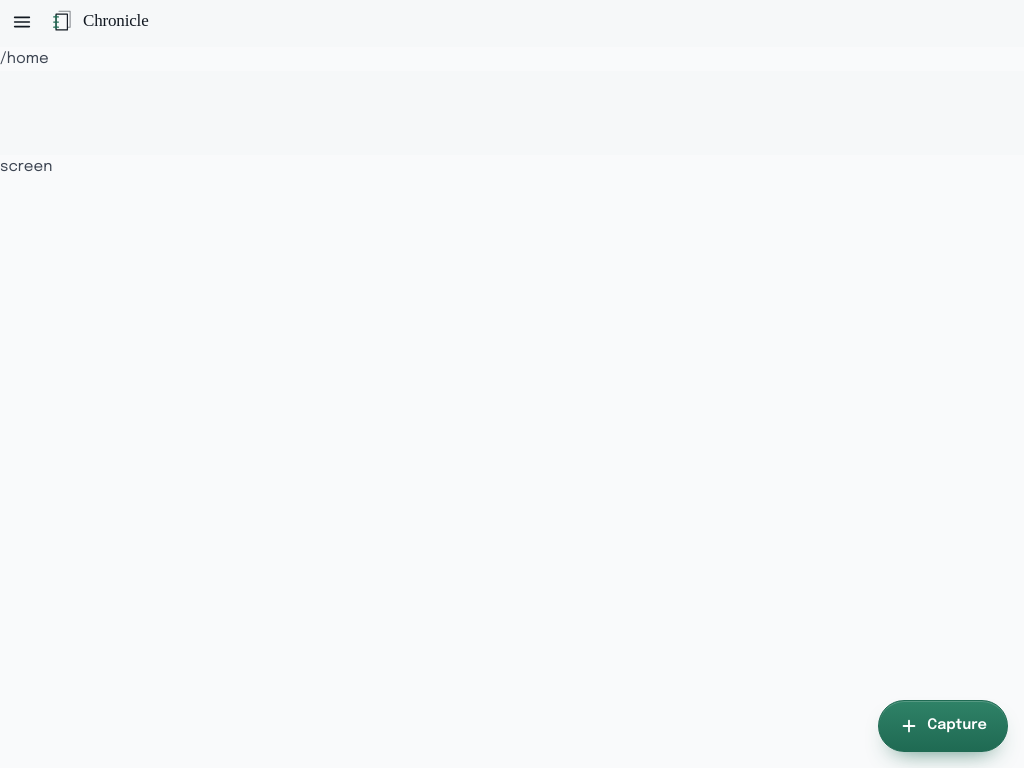
mobile drawer › navigates to Chronicle and closes afterwards
What coordinates should you click on to do the following:
click the button with test id "nav-menu-button"
I would click on:
 (22, 22)
Its box is [0,0,44,44].
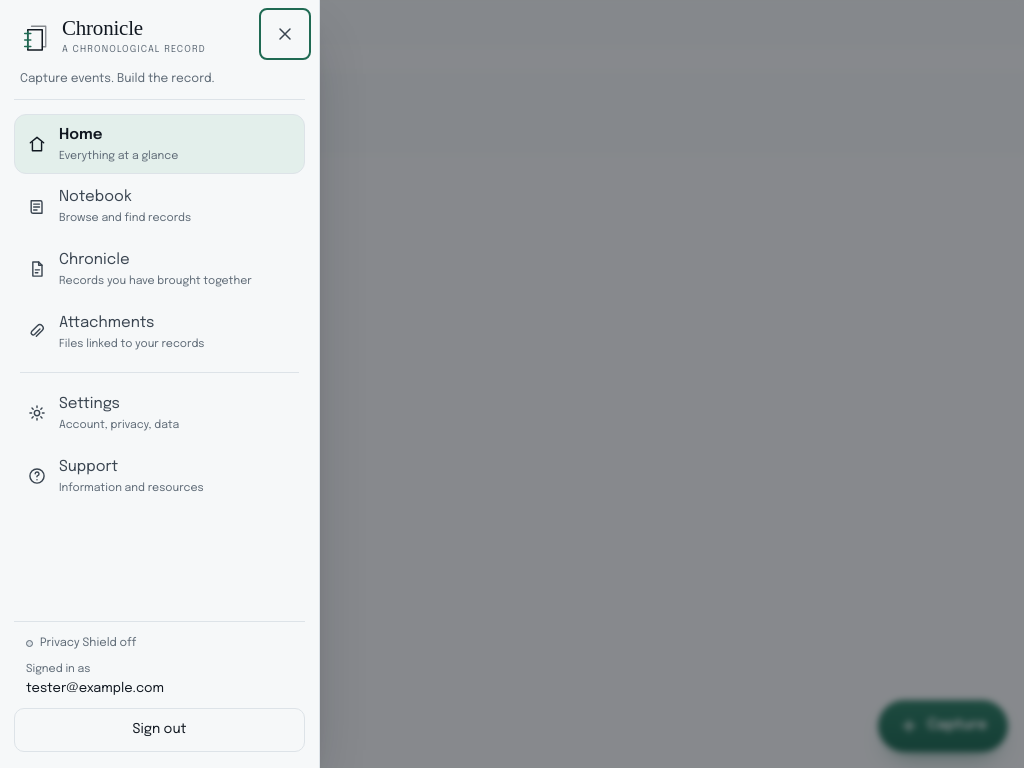
Expected: the dialog with test id "nav-drawer" is shown, [0,0,320,767]
What coordinates should you click on to do the following:
click the button "Chronicle Records you have brought together"
I would click on:
 (94, 260)
Its box is [14,239,305,300].
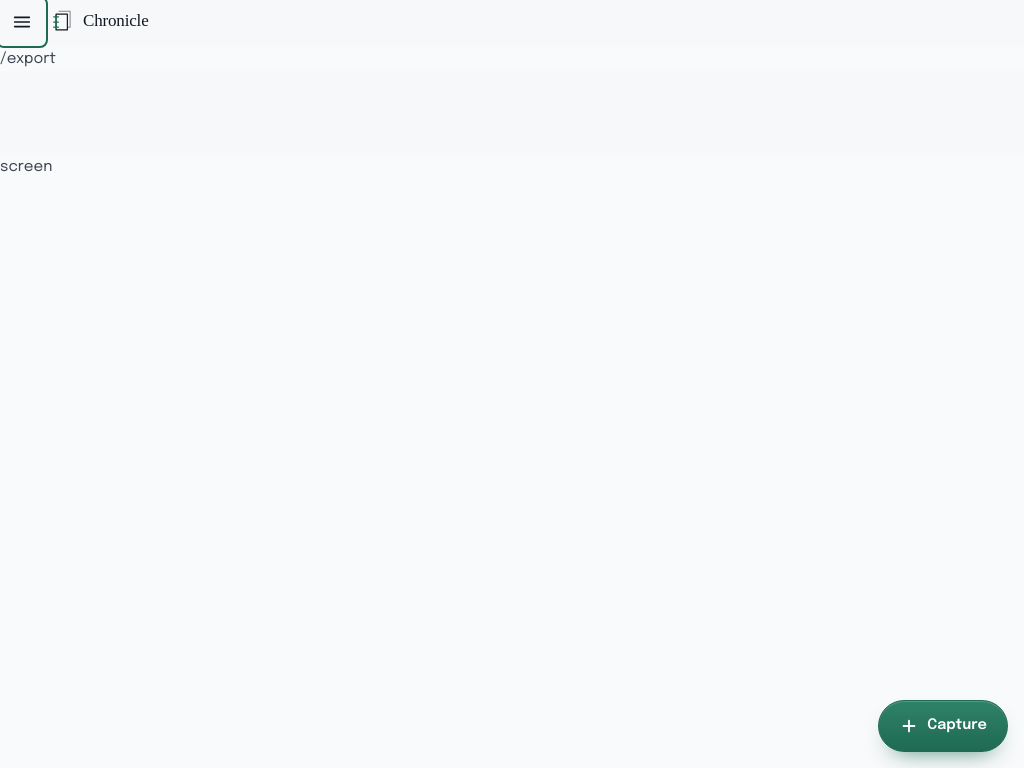
Expected: the text with test id "path" reads "/export", [0,51,56,67]
Expected: the dialog with test id "nav-drawer" is gone
